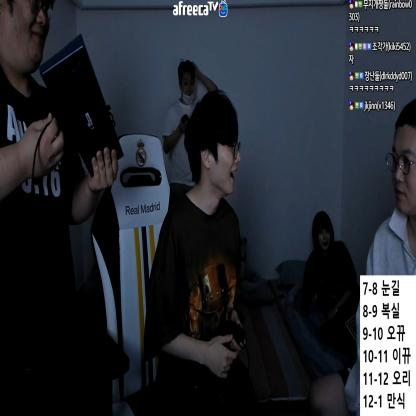streamer: (0, 1, 124, 416), (143, 89, 241, 416), (361, 97, 416, 275), (300, 211, 359, 367), (163, 58, 219, 184)
